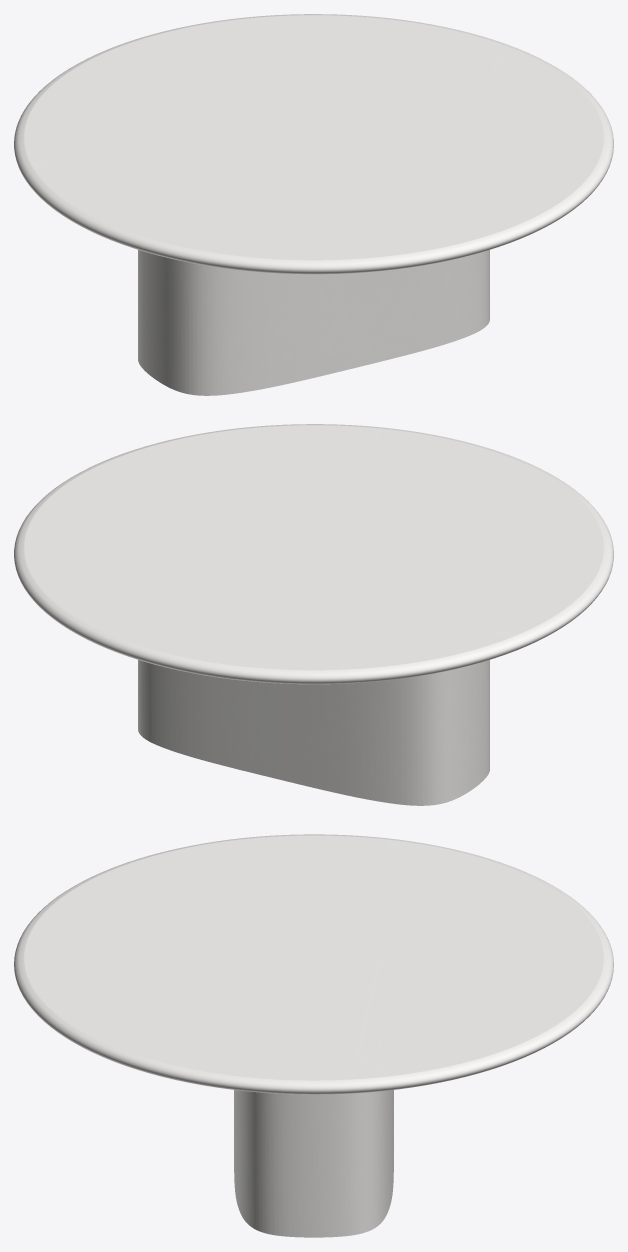
Rendered from purewhite_round_round_fixed.glb.
3 views of the same model, one above another, from view 1: azimuth 30°, elevation 25°; view 2: azimuth 150°, elevation 25°; view 3: azimuth 270°, elevation 25° (orthographic).
Parts seen in each view (by area): view 1: round_round, fixed; view 2: round_round, fixed; view 3: round_round, fixed.
Boxes of the visible parts, box(x1,y1,x2,y2) form: round_round: box(14, 14, 613, 274); fixed: box(138, 250, 489, 395); round_round: box(14, 424, 613, 684); fixed: box(138, 660, 489, 805); round_round: box(14, 834, 613, 1094); fixed: box(234, 1090, 393, 1237).
Bounding box in the file's own units: 6.75 × 2.5 × 6.75.
Materials: 1 (1 with a texture image).
